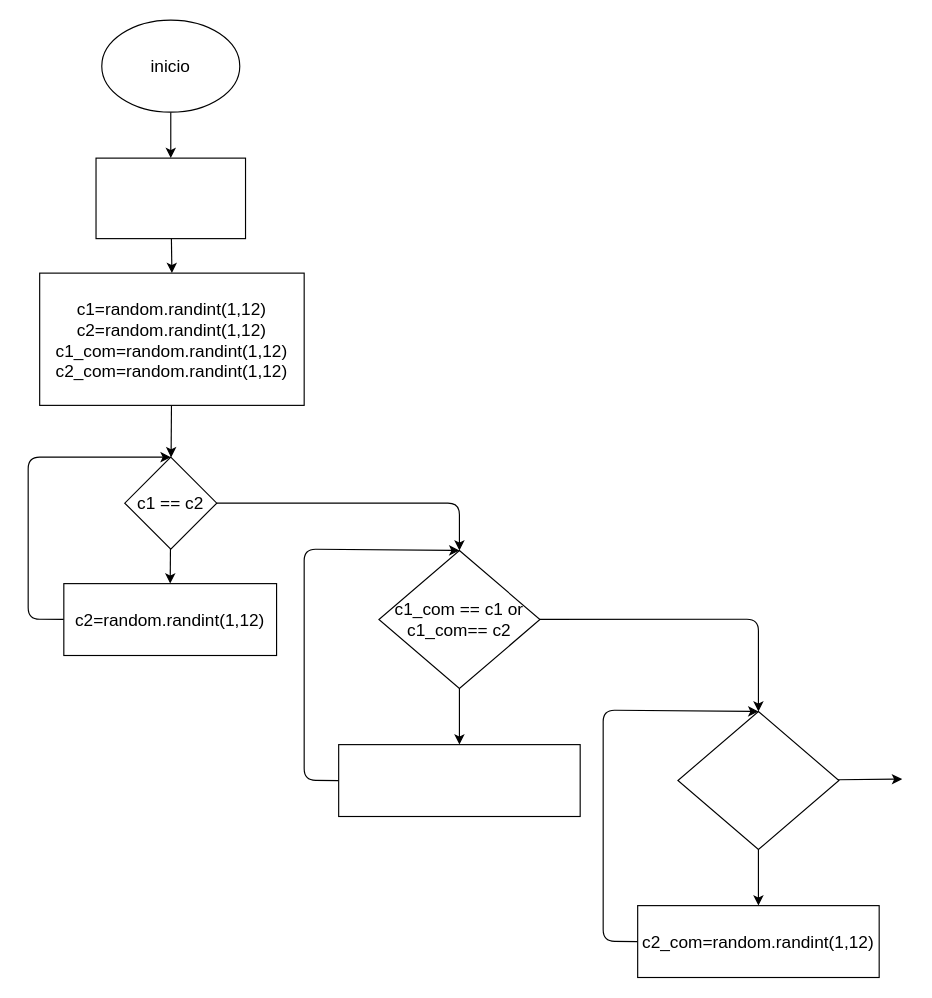
Image size: 932x998. Some labels were removed from this diagram. Each missing label, with the centre of its shape:
c1=0, c2=0, c3=0, c4=0, c5=0, c6=0, c7=0, c8=0: (x=170, y=198)
c1_com=random.randint(1,12): (x=459, y=779)
c2_com == c1 or c2_com== c2 or c2_com== c1_com: (x=758, y=780)
